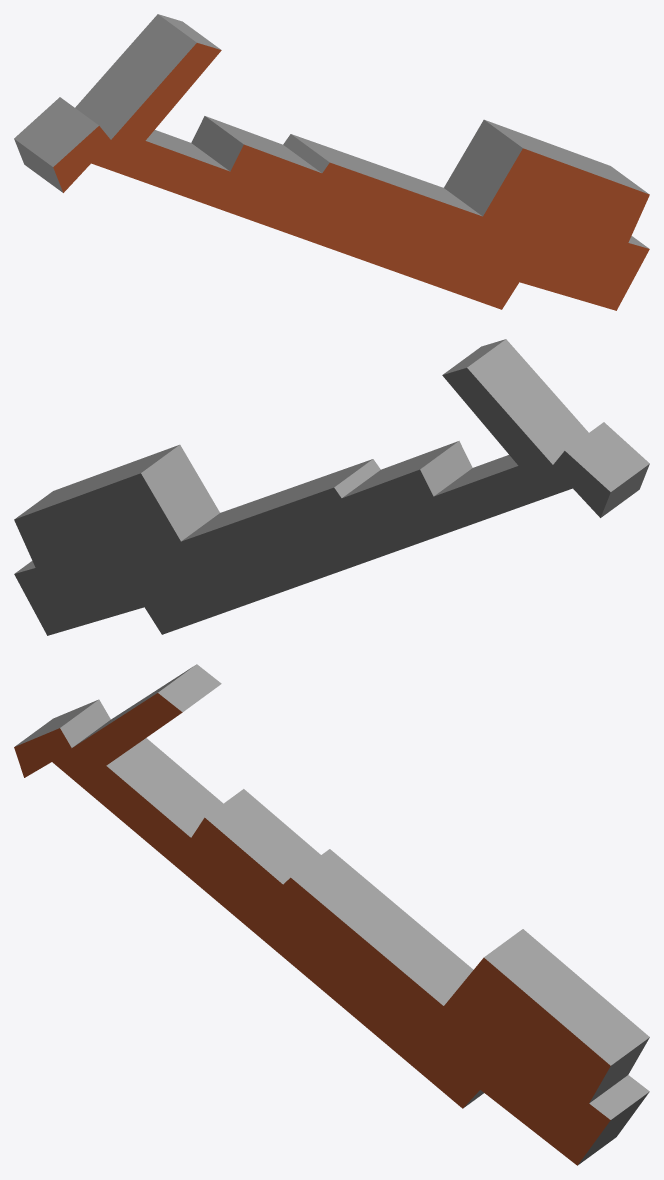
Rendered from construction_6912_assumed_A_Casa_h6m.obj.
The picture shows the model from 3 angles, top to bottom: view 1: azimuth 30°, elevation 25°; view 2: azimuth 150°, elevation 25°; view 3: azimuth 330°, elevation 25°; orthographic projection.
Parts seen in each view (by area): view 1: construction_6912_assumed_A_Casa; view 2: construction_6912_assumed_A_Casa; view 3: construction_6912_assumed_A_Casa.
Boxes of the visible parts, x1,y1,x2,y2 form: construction_6912_assumed_A_Casa: (14,14,649,310); construction_6912_assumed_A_Casa: (14,339,649,635); construction_6912_assumed_A_Casa: (14,664,649,1165).
Size of the model in its own units: 52.77 by 31.32 by 6.
